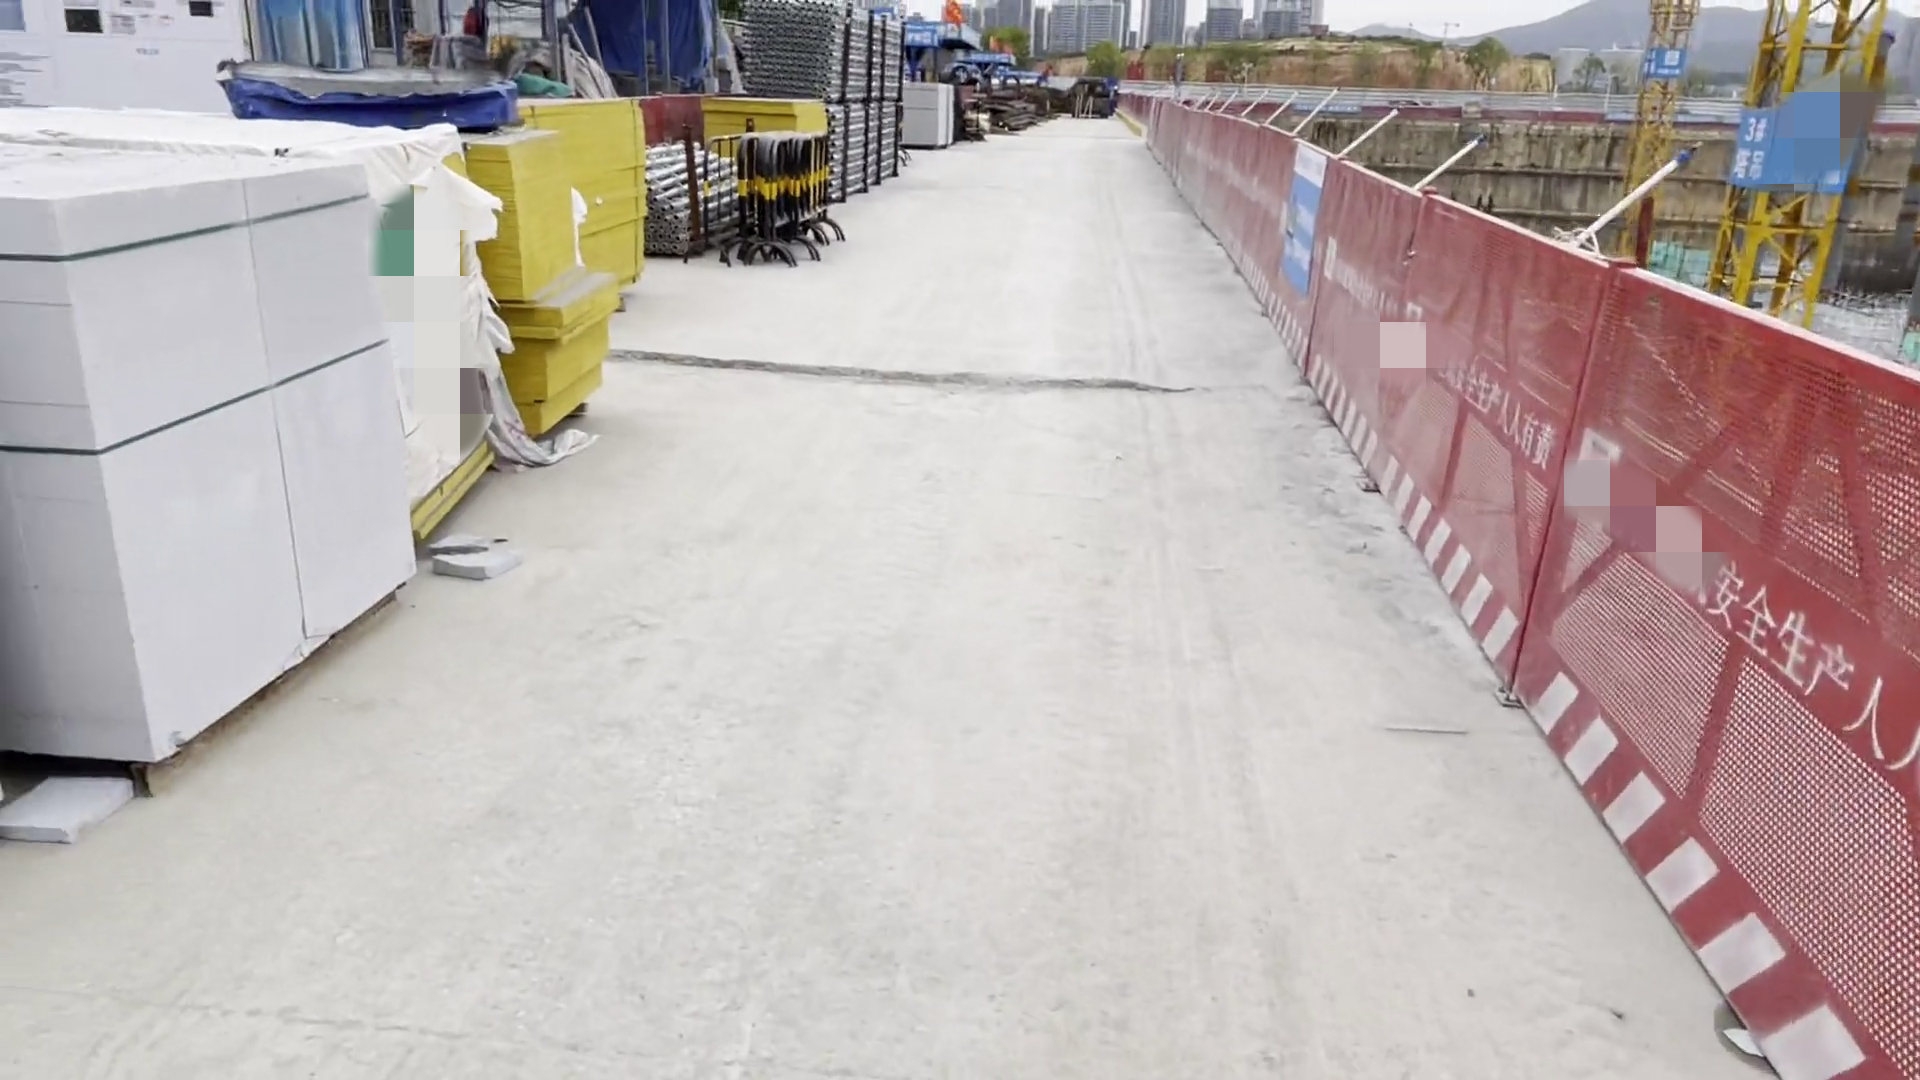board: (480, 92, 662, 465)
brick: (3, 166, 429, 789)
scaffold: (742, 1, 905, 96)
slogan: (1278, 138, 1328, 313)
